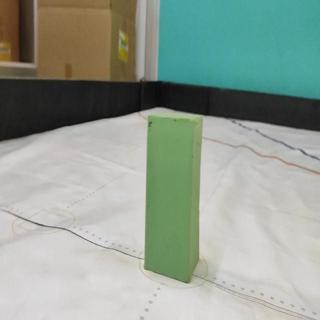greenbox: (143, 109, 205, 284)
